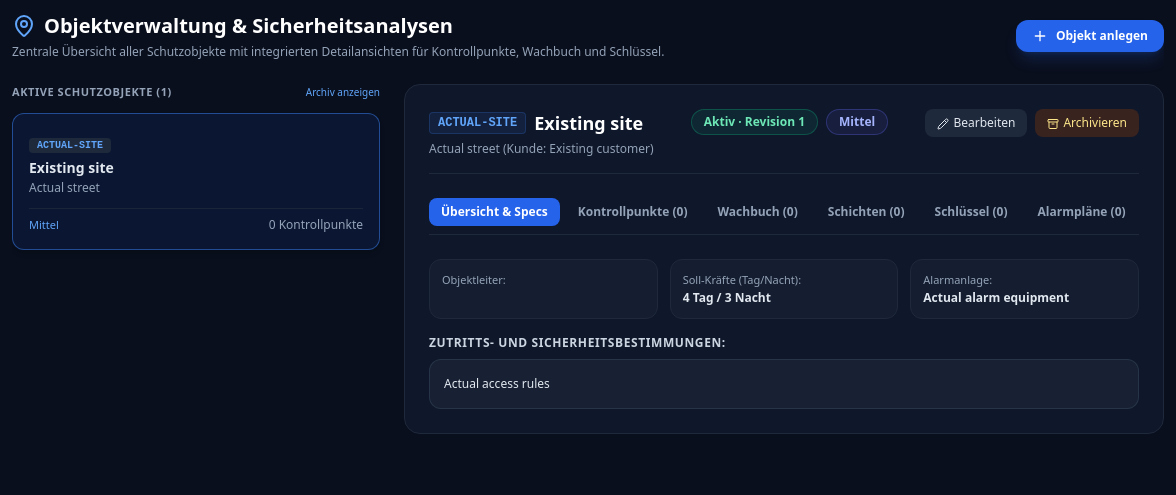
it: Resource forms confirmed persistence › site archive waits for confirmation and displays a rejected operation
Click the button "Archivieren" at coordinates (1087, 123), box [1036,109,1139,137]
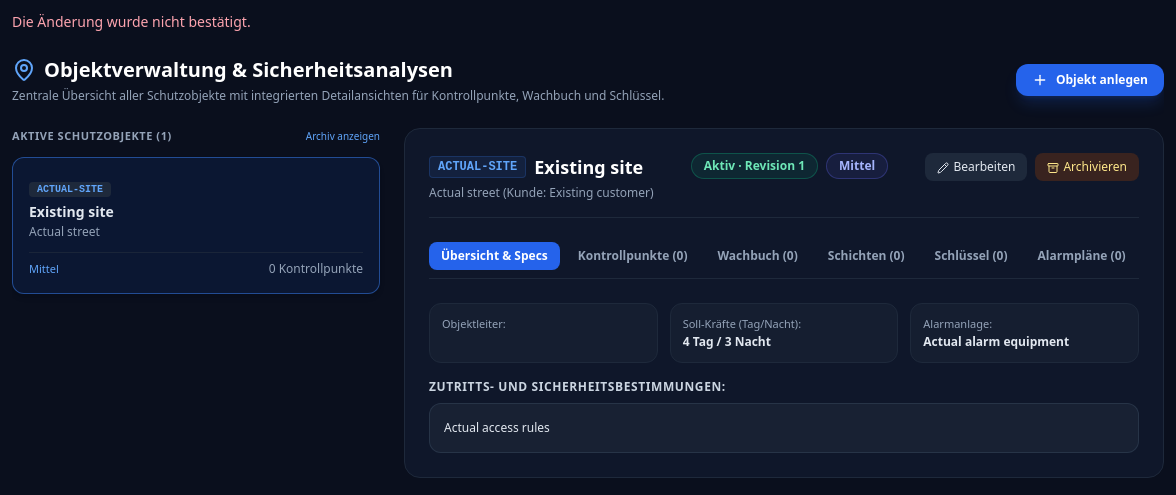
Now the message "Die Änderung wurde nicht bestätigt." is shown, box [12,12,251,31]
